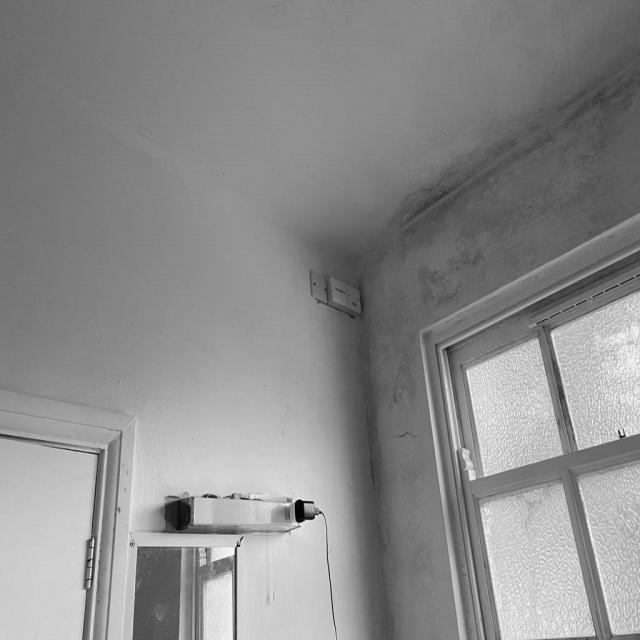stain marks: (547, 15, 640, 246), (386, 166, 490, 314), (490, 156, 550, 304), (360, 312, 424, 448), (448, 96, 546, 164), (338, 189, 384, 310), (366, 546, 406, 640), (367, 446, 431, 503), (369, 504, 419, 544), (410, 538, 440, 598)
